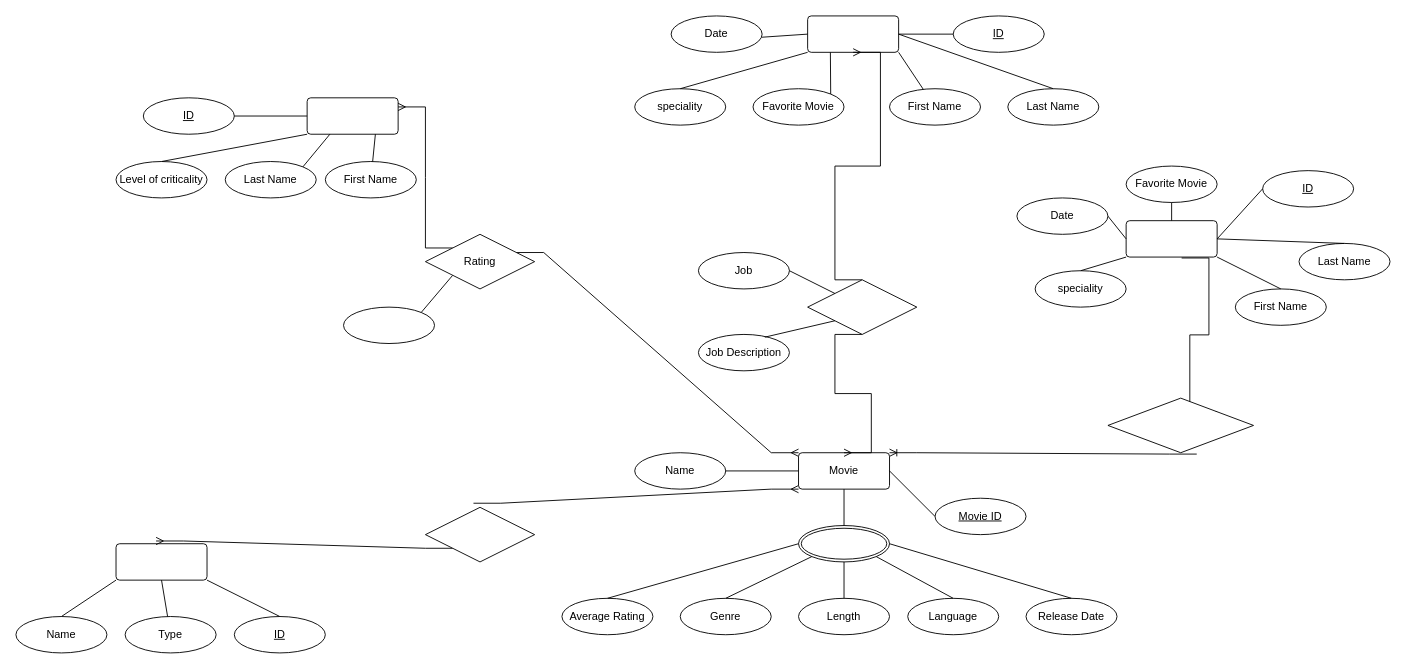
This 1406x669 diagram has some shape labels left out. The centre of each missing label's shape, as x and y in pixels:
Actor: the point at 853,33
Cast: the point at 862,306
Critic: the point at 352,115
Director: the point at 1171,238
Director Of The Movie: the point at 1180,425
Entertainment service: the point at 161,561
Movie Details: the point at 844,543
Movie In Service: the point at 480,534
Score: the point at 389,325
